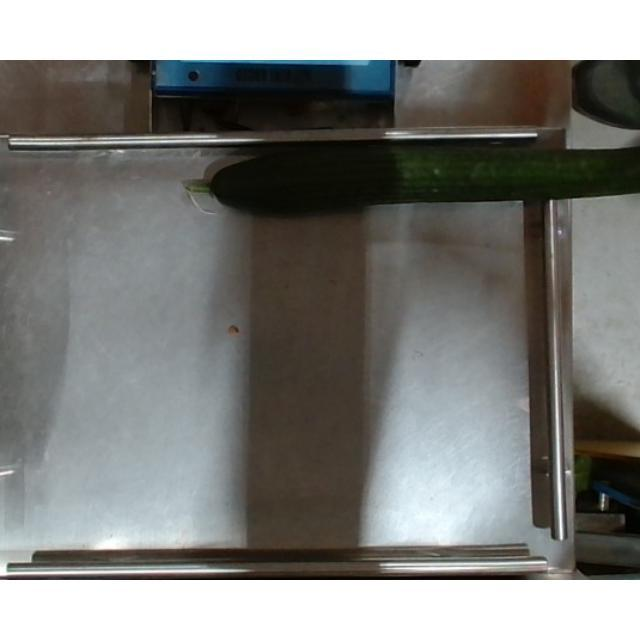cucumber: (184, 142, 640, 214)
